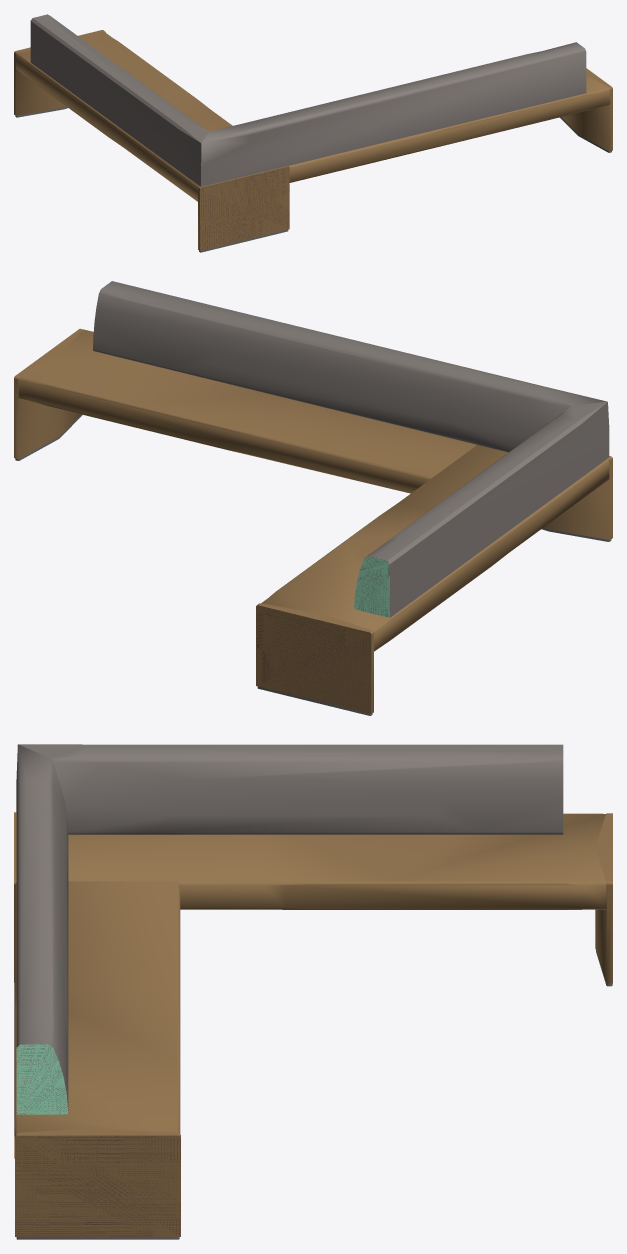
3 renders of one model, top to bottom at view 1: azimuth 30°, elevation 25°; view 2: azimuth 150°, elevation 25°; view 3: azimuth 270°, elevation 25°, orthographic. The views are drawn at different scales.
Visible parts, largest first — view 1: mesh6_mesh6-geometry, mesh9_mesh9-geometry, mesh4_mesh4-geometry, mesh8_mesh8-geometry, mesh5_mesh5-geometry, mesh2_mesh2-geometry, mesh1_mesh1-geometry; view 2: mesh6_mesh6-geometry, mesh5_mesh5-geometry, mesh9_mesh9-geometry, mesh8_mesh8-geometry, mesh2_mesh2-geometry, mesh4_mesh4-geometry; view 3: mesh9_mesh9-geometry, mesh8_mesh8-geometry, mesh5_mesh5-geometry, mesh6_mesh6-geometry, mesh4_mesh4-geometry, mesh2_mesh2-geometry.
Part boxes in pixels (bbox=[...]): mesh6_mesh6-geometry: bbox=[201, 42, 586, 186]; mesh9_mesh9-geometry: bbox=[30, 14, 208, 186]; mesh4_mesh4-geometry: bbox=[198, 68, 612, 250]; mesh8_mesh8-geometry: bbox=[16, 31, 232, 201]; mesh5_mesh5-geometry: bbox=[288, 75, 610, 182]; mesh2_mesh2-geometry: bbox=[14, 30, 105, 115]; mesh1_mesh1-geometry: bbox=[199, 117, 611, 252]; mesh6_mesh6-geometry: bbox=[93, 281, 606, 452]; mesh5_mesh5-geometry: bbox=[18, 329, 476, 493]; mesh9_mesh9-geometry: bbox=[354, 401, 609, 617]; mesh8_mesh8-geometry: bbox=[261, 445, 609, 651]; mesh2_mesh2-geometry: bbox=[256, 603, 373, 713]; mesh4_mesh4-geometry: bbox=[14, 328, 612, 539]; mesh9_mesh9-geometry: bbox=[16, 744, 563, 834]; mesh8_mesh8-geometry: bbox=[14, 813, 606, 909]; mesh5_mesh5-geometry: bbox=[14, 881, 180, 1158]; mesh6_mesh6-geometry: bbox=[16, 744, 68, 1114]; mesh4_mesh4-geometry: bbox=[14, 812, 180, 1236]; mesh2_mesh2-geometry: bbox=[595, 813, 612, 983].
Bounding box in the file's own units: 0.7724 × 0.195 × 0.6045.
